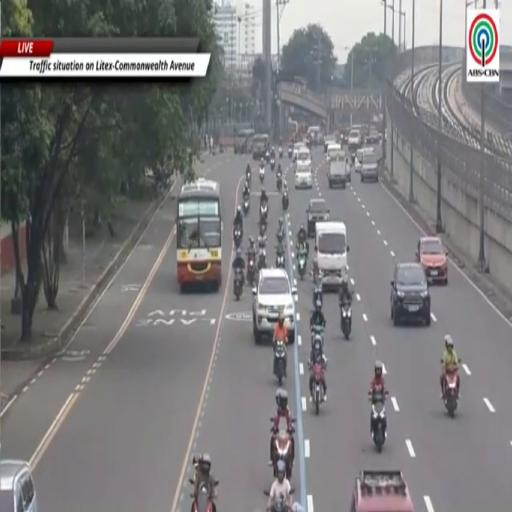bus: (177, 179, 222, 291)
car: (252, 268, 296, 344), (390, 263, 431, 326), (351, 471, 414, 511), (0, 459, 37, 511), (417, 236, 447, 284), (307, 199, 329, 237), (328, 154, 350, 188), (360, 152, 380, 183), (355, 147, 374, 172), (294, 163, 312, 188), (295, 148, 312, 170), (327, 143, 344, 162), (348, 130, 362, 150), (293, 142, 306, 161), (324, 136, 336, 153), (366, 131, 380, 145)
motorcycle: (272, 419, 293, 479), (369, 392, 387, 452), (444, 365, 458, 418), (192, 483, 216, 511), (273, 341, 286, 386), (313, 363, 324, 414), (341, 302, 351, 340), (310, 325, 324, 346), (313, 280, 323, 308), (234, 269, 243, 300), (298, 249, 306, 280), (247, 256, 255, 286), (234, 228, 242, 248), (258, 250, 266, 269), (259, 217, 267, 235), (260, 202, 267, 222), (243, 198, 250, 216), (276, 172, 282, 192), (282, 192, 288, 211), (276, 254, 284, 268), (277, 230, 284, 243), (246, 171, 251, 186), (259, 168, 264, 183), (270, 157, 275, 171), (265, 152, 270, 163), (351, 152, 355, 165), (288, 147, 293, 157), (279, 147, 282, 158)
